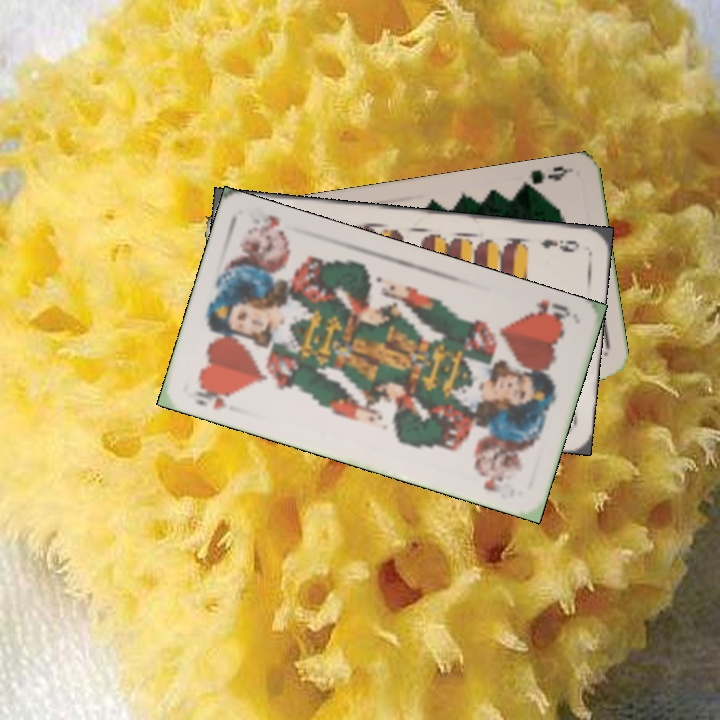E9: (536, 235, 582, 255)
G9: (516, 162, 574, 193)
HO: (186, 381, 237, 412), (525, 295, 574, 327)
